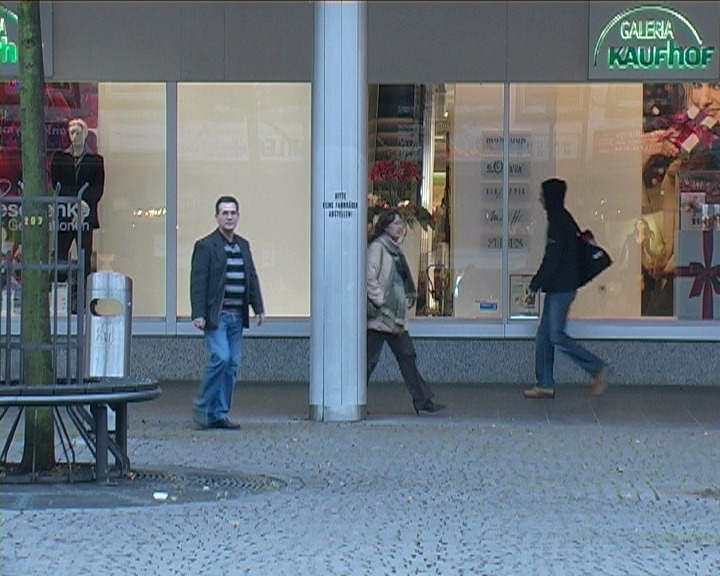deflection: (191, 193, 260, 293)
